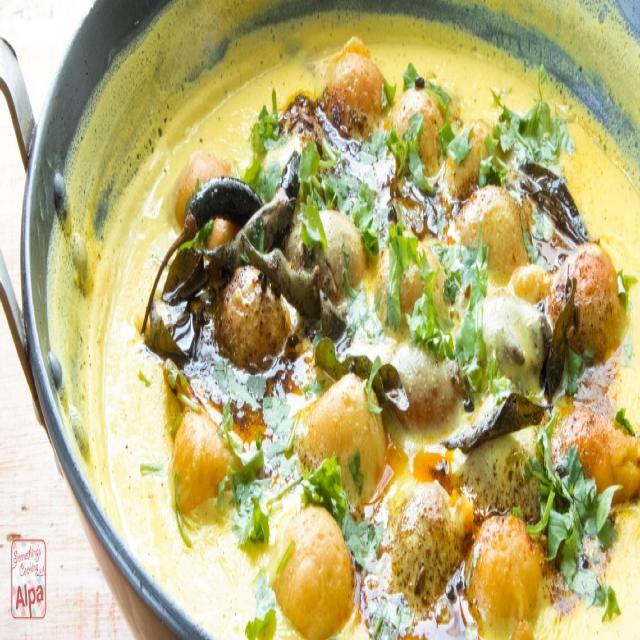Kadhi Pakora: (101, 32, 640, 640)
